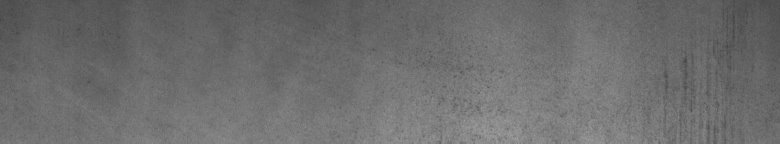ka: (664, 36, 734, 136)
